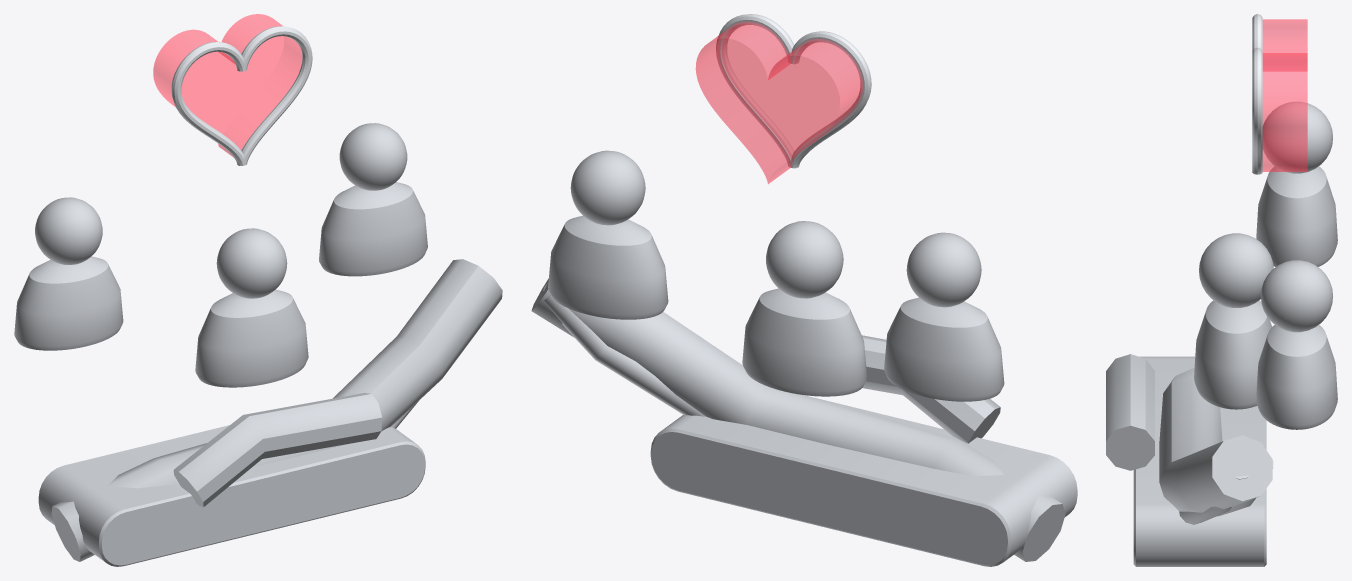
File: 46-social-programs.glb
3 views of the same model, side by side, from view 1: azimuth 30°, elevation 25°; view 2: azimuth 150°, elevation 25°; view 3: azimuth 270°, elevation 25° (orthographic). The views are drawn at different scales.
Visible parts, largest first — view 1: BC satin silver metal, BC ruby optical glass, BC polished silver metal; view 2: BC satin silver metal, BC ruby optical glass, BC polished silver metal; view 3: BC satin silver metal, BC ruby optical glass, BC polished silver metal.
Part boxes in pixels (<box>): BC satin silver metal: <box>14,123,502,566</box>; BC ruby optical glass: <box>153,14,302,157</box>; BC polished silver metal: <box>171,26,312,165</box>; BC satin silver metal: <box>531,150,1077,566</box>; BC ruby optical glass: <box>695,21,862,183</box>; BC polished silver metal: <box>716,14,871,168</box>; BC satin silver metal: <box>1106,102,1337,566</box>; BC ruby optical glass: <box>1262,19,1307,171</box>; BC polished silver metal: <box>1252,14,1262,174</box>.
Bounding box in the file's own units: 1.84 × 1.78 × 0.766.
